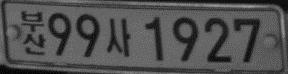1: (142, 16, 169, 61)
2: (203, 16, 231, 63)
7: (232, 17, 260, 62)
9: (172, 16, 199, 61), (74, 13, 100, 57), (47, 11, 72, 55)
부산_V: (19, 9, 46, 56)
사: (105, 18, 131, 57)
